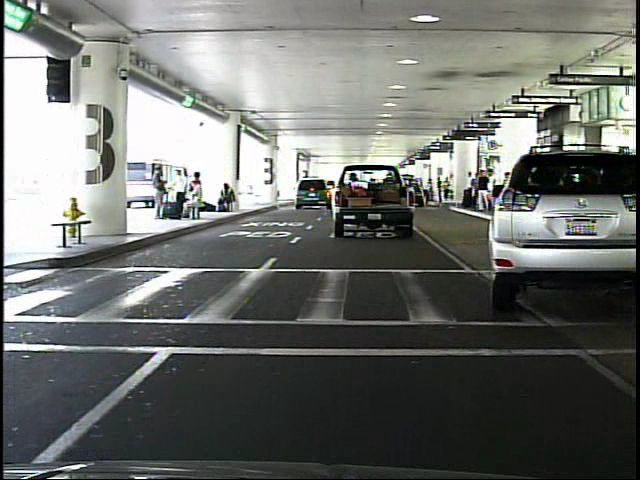person: (150, 165, 170, 221), (475, 167, 492, 214), (434, 174, 445, 205)
